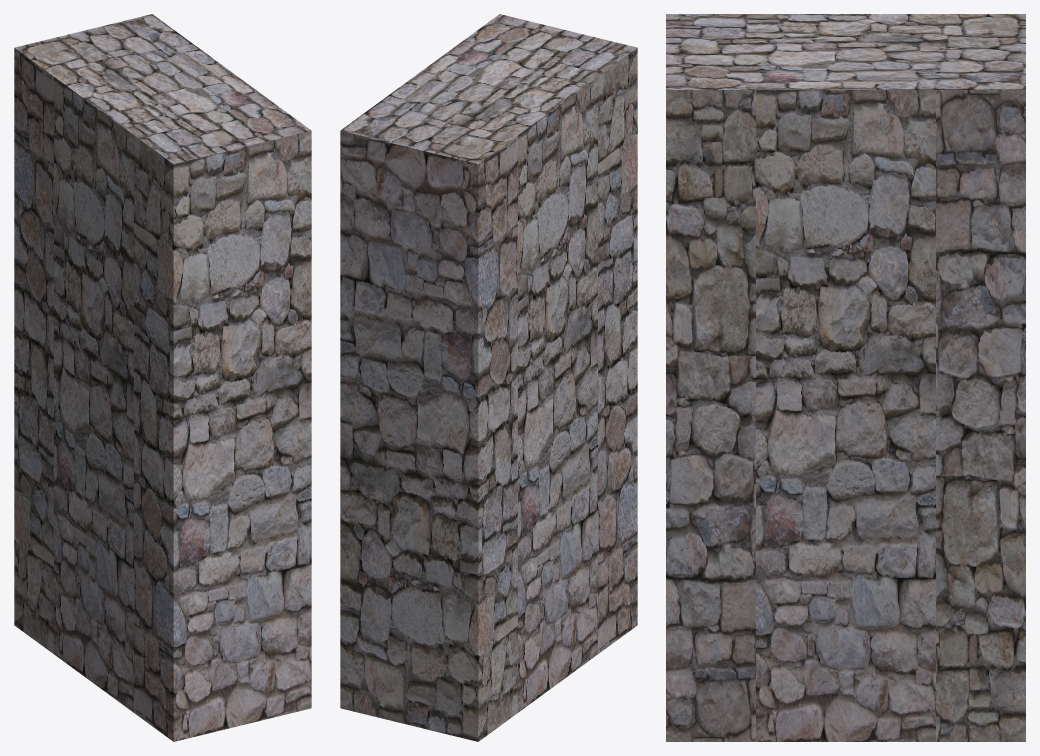
File: hwall_straight.obj
3 views of the same model, side by side, from view 1: azimuth 30°, elevation 25°; view 2: azimuth 150°, elevation 25°; view 3: azimuth 270°, elevation 25° (orthographic). The views are drawn at different scales.
Bounding box in the file's own units: 0.5 × 2 × 1.
